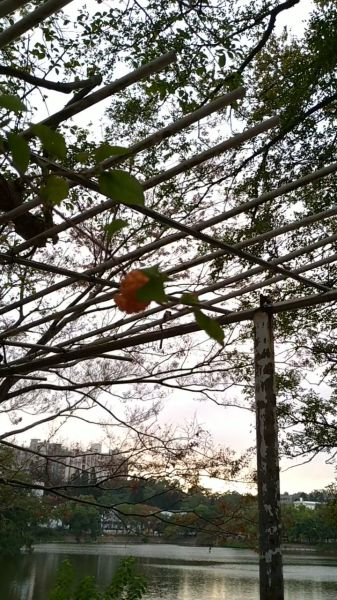eggs: (109, 266, 158, 318)
